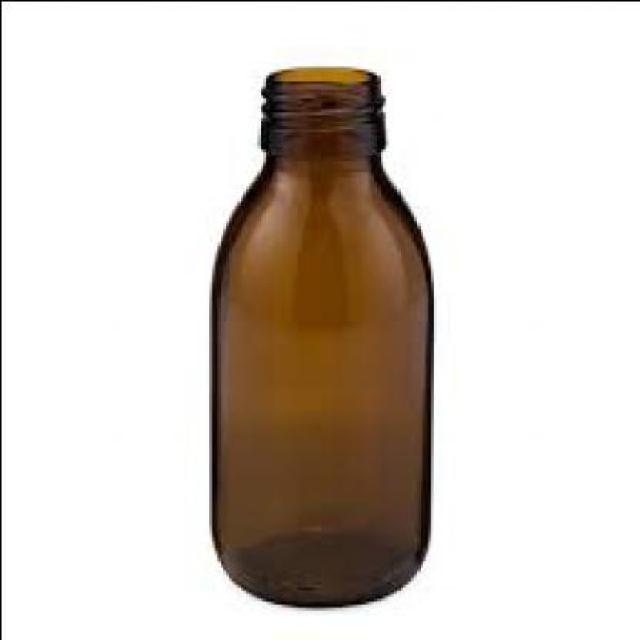glass: (208, 63, 428, 605)
